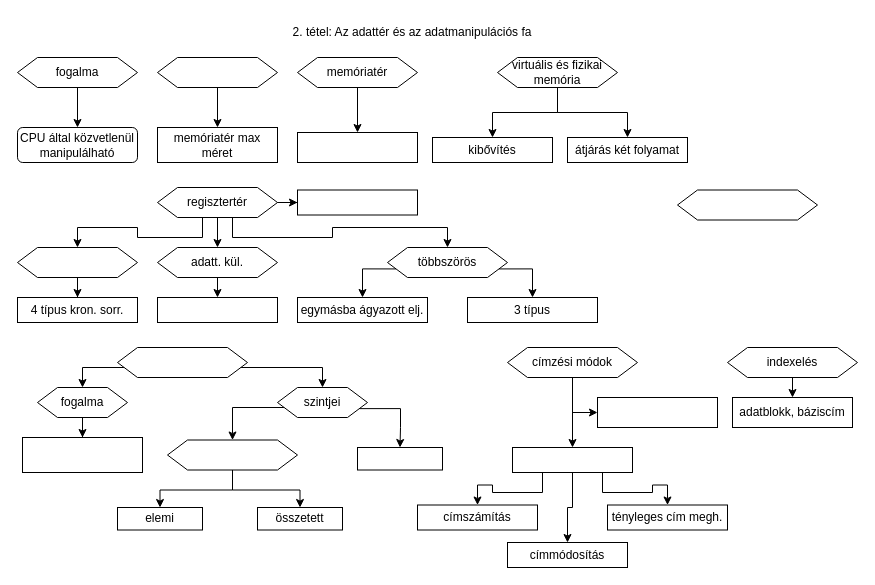
The diagram is 875 pixels wide and 585 high, and some of its shapes have lost their labels. The box of each missing label's shape, as (x1, y1, x2, y2) in pixels:
3 elem kombinációja: (512, 446, 632, 472)
adatmanipulációs fa: (116, 346, 248, 378)
adatmanipulációs lehetőségek: (22, 436, 142, 472)
adattípusok: (166, 439, 298, 470)
címtér: (156, 56, 278, 88)
egyszerű: (16, 246, 138, 278)
gyors, kis rész: (296, 189, 418, 215)
maga a címszámítási algoritmus: (596, 396, 718, 428)
maradék 4: (356, 446, 442, 470)
mérete jellemzi: (296, 132, 418, 162)
párhuzamos: (156, 296, 278, 322)
regisztercella fizikai kialakítása: (676, 189, 818, 220)
